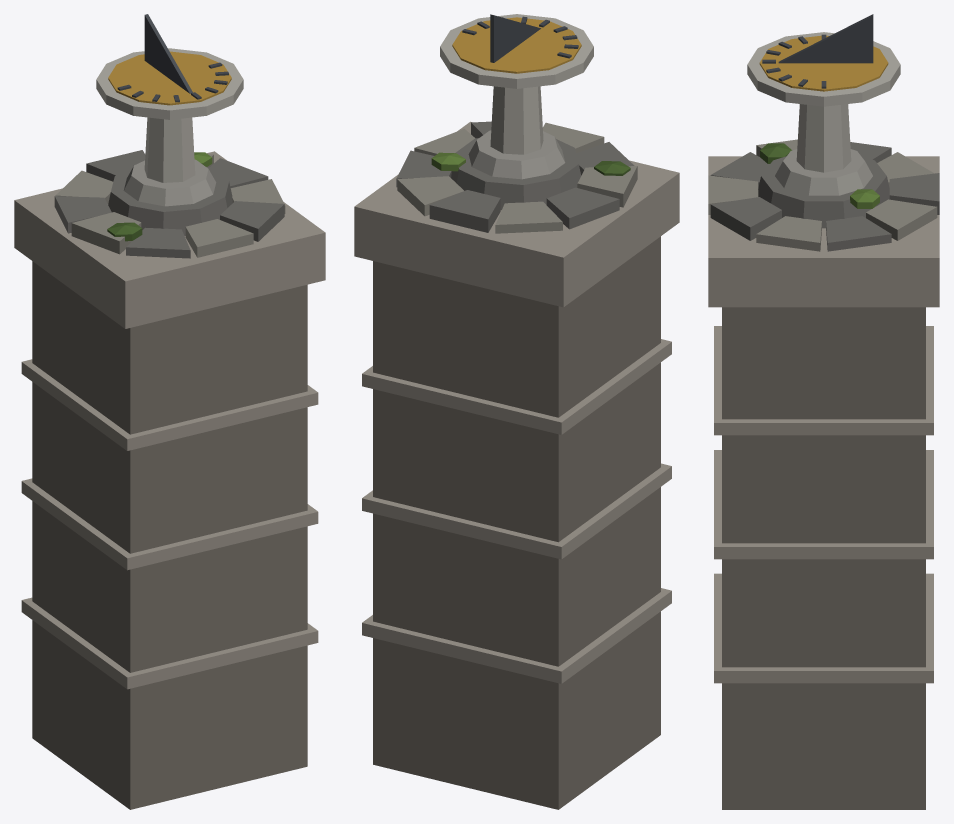
The model's file is decor_sundial.glb.
The picture shows the model from 3 angles, left to right: view 1: azimuth 30°, elevation 25°; view 2: azimuth 150°, elevation 25°; view 3: azimuth 270°, elevation 25°; orthographic projection. The views are drawn at different scales.
Visible parts, largest first — view 1: decor_sundial; view 2: decor_sundial; view 3: decor_sundial.
Boxes of the visible parts, x1,y1,x2,y2 form: decor_sundial: [14, 14, 325, 809]; decor_sundial: [354, 14, 679, 809]; decor_sundial: [708, 14, 939, 809].
Size of the model in its own units: 1.76 by 6.05 by 1.69.
